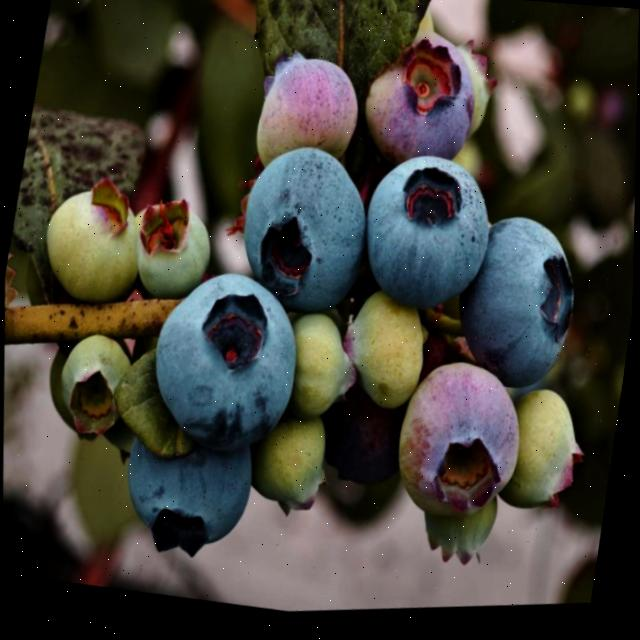RipeBlueBerry: (124, 250, 325, 484), (212, 128, 393, 346), (431, 199, 604, 418), (340, 141, 512, 339), (104, 403, 274, 586)
Semi-RipeBlueBerry: (370, 341, 547, 550), (341, 16, 492, 186), (233, 39, 374, 186)
UnripeBlueBerry: (24, 169, 158, 327), (325, 281, 443, 431), (483, 377, 598, 530), (41, 326, 149, 459), (118, 192, 225, 318), (270, 309, 371, 441)
